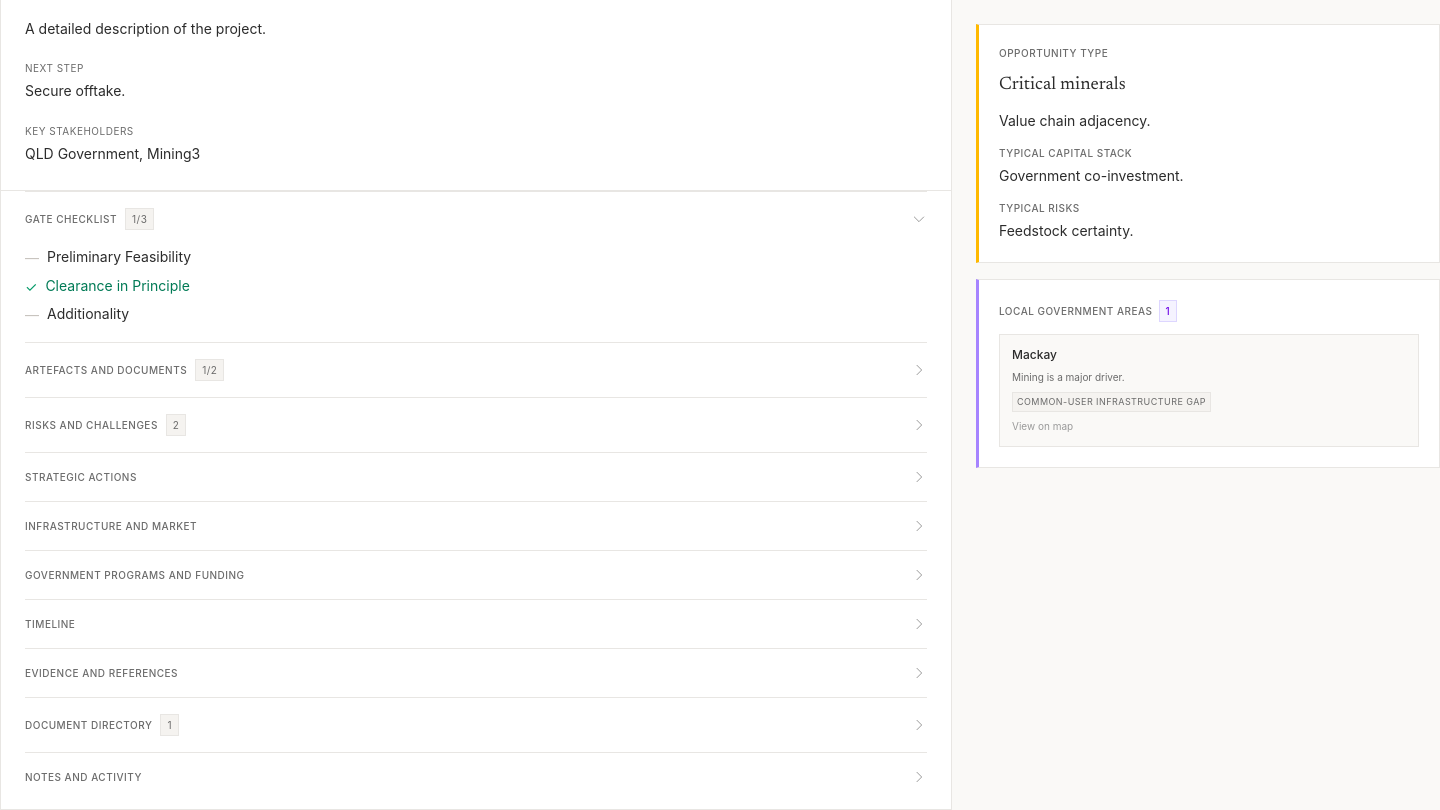
Scenario: DealDetail › renders document directory accordion section
(page scrolled)
// Expand the accordion to see contents
Click the text "Document directory": (89, 725) [25,717,152,733]
(page scrolled)
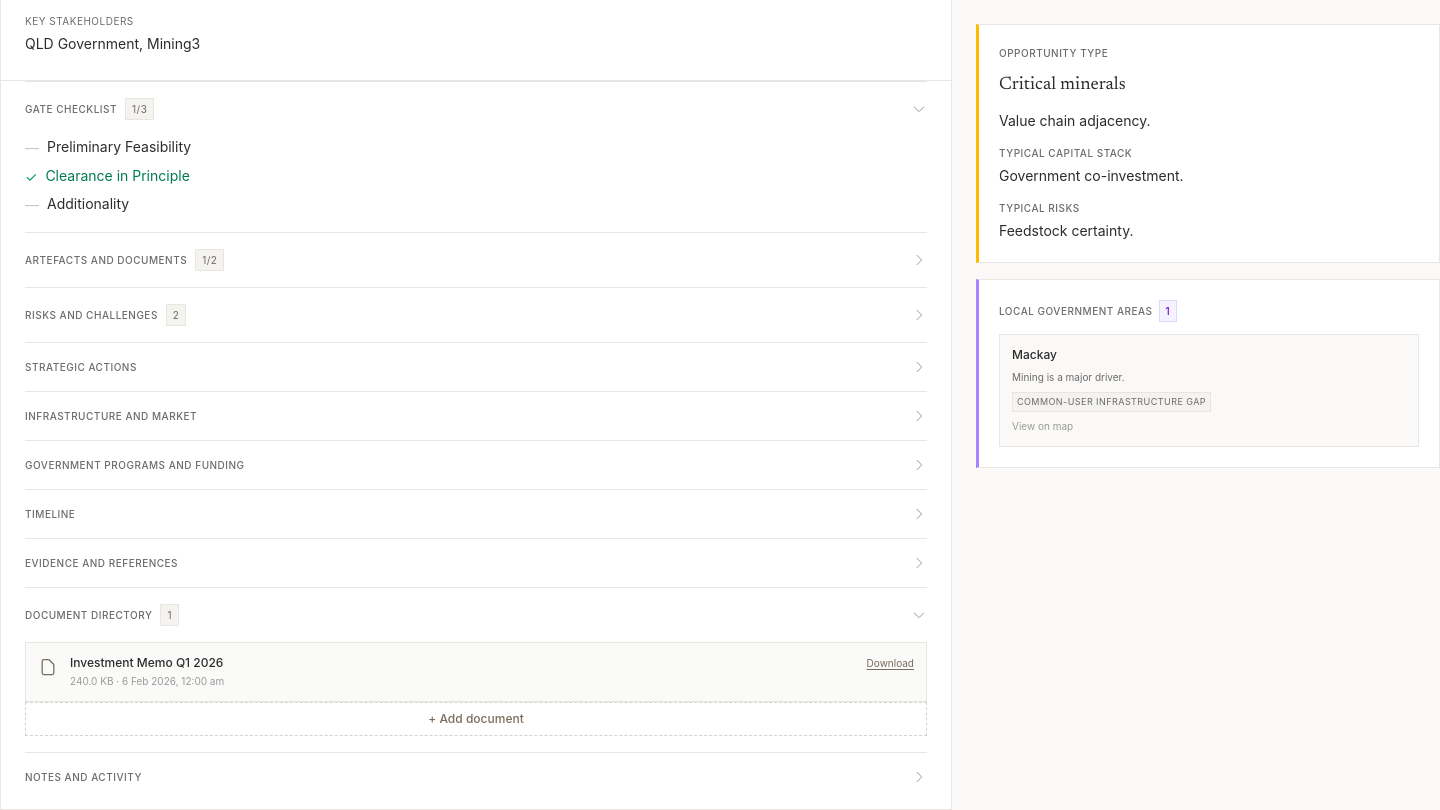
Expected: the text "Investment Memo Q1 2026" is shown, [70,655,223,670]
Expected: the text "240.0 KB · 6 Feb 2026, 12:00 am" is shown, [70,675,224,687]
Expected: the button "Download" is shown, [867,655,914,671]
